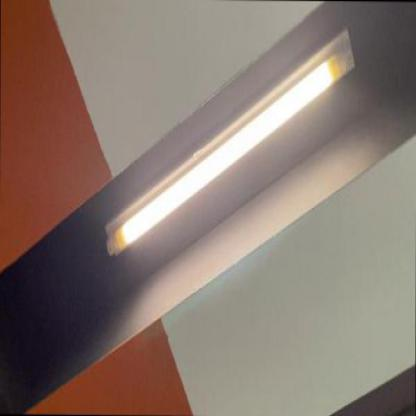light_on: (87, 13, 366, 283)
